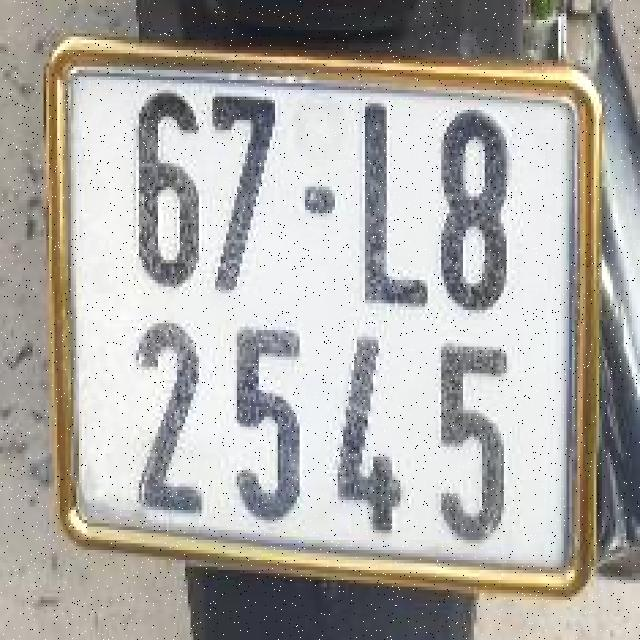2: (124, 306, 211, 526)
4: (313, 325, 411, 525)
5: (421, 328, 524, 552), (226, 310, 305, 540)
6: (125, 87, 210, 300)
7: (202, 81, 283, 312)
8: (426, 104, 514, 324)
L: (343, 85, 433, 315)
